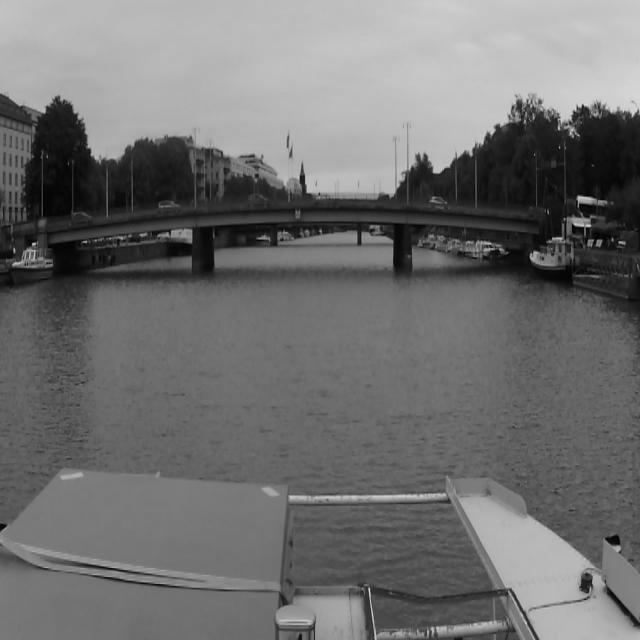ship: (530, 237, 574, 280), (15, 242, 53, 286)
